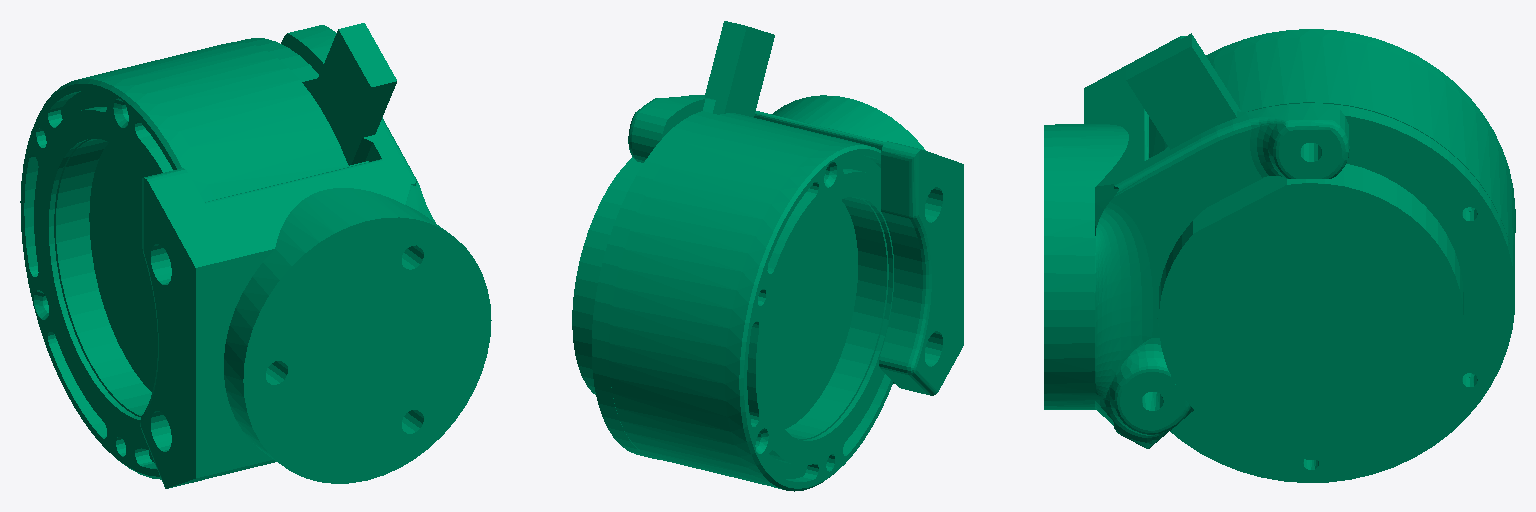
The robot description file, URDF, robot "pupper_v3":
<robot name="pupper_v3" version="1.0">

  <mujoco><compiler meshdir="../meshes/stl/" discardvisual="false" /></mujoco><joint name="leg_front_r_1" type="revolute">
    <limit lower="-1.22000" upper="2.51000" effort="3.00000" velocity="100.00000" />
    <origin rpy="1.57080 0.00000 0.00000" xyz="0.07500 -0.08350 0.00000" />
    <parent link="base_link" />
    <child link="leg_front_r_1" />
    <axis xyz="0.00000 0.00000 1.00000" />
  </joint>
  <joint name="leg_front_r_2" type="revolute">
    <limit lower="-0.42000" upper="3.14000" effort="3.00000" velocity="100.00000" />
    <origin rpy="1.49199 -1.57080 -1.49198" xyz="0.00000 0.00000 0.00000" />
    <parent link="leg_front_r_1" />
    <child link="leg_front_r_2" />
    <axis xyz="0.00000 0.00000 1.00000" />
  </joint>
  <joint name="leg_front_r_3" type="revolute">
    <limit lower="-2.79000" upper="0.71000" effort="3.00000" velocity="100.00000" />
    <origin rpy="-0.00000 1.57080 0.00000" xyz="0.00000 -0.04940 0.06850" />
    <parent link="leg_front_r_2" />
    <child link="leg_front_r_3" />
    <axis xyz="0.00000 0.00000 1.00000" />
  </joint>

  <joint name="leg_front_l_1" type="revolute">
    <limit lower="-2.51000" upper="1.22000" effort="3.00000" velocity="100.00000" />
    <origin rpy="-1.57080 0.00000 0.00000" xyz="0.07500 0.08350 0.00000" />
    <parent link="base_link" />
    <child link="leg_front_l_1" />
    <axis xyz="0.00000 0.00000 1.00000" />
  </joint>
  <joint name="leg_front_l_2" type="revolute">
    <limit lower="-3.14000" upper="0.42000" effort="3.00000" velocity="100.00000" />
    <origin rpy="1.57080 1.57080 -1.57080" xyz="0.00000 0.00000 0.00000" />
    <parent link="leg_front_l_1" />
    <child link="leg_front_l_2" />
    <axis xyz="0.00000 0.00000 1.00000" />
  </joint>
  <joint name="leg_front_l_3" type="revolute">
    <limit lower="-0.71000" upper="+2.79000" effort="3.00000" velocity="100.00000" />
    <origin rpy="-0.00000 1.57080 3.14159" xyz="0.00000 -0.04940 0.06850" />
    <parent link="leg_front_l_2" />
    <child link="leg_front_l_3" />
    <axis xyz="0.00000 0.00000 1.00000" />
  </joint>


  <joint name="leg_back_r_1" type="revolute">
    <limit lower="-1.22000" upper="2.51000" effort="3.00000" velocity="100.00000" />
    <origin rpy="1.57080 0.00000 0.00000" xyz="-0.07500 -0.07250 0.00000" />
    <parent link="base_link" />
    <child link="leg_back_r_1" />
    <axis xyz="0.00000 0.00000 1.00000" />
  </joint>
  <joint name="leg_back_r_2" type="revolute">
    <limit lower="-0.42000" upper="3.14000" effort="3.00000" velocity="100.00000" />
    <origin rpy="1.49199 -1.57080 -1.49198" xyz="0.00000 0.00000 0.00000" />
    <parent link="leg_back_r_1" />
    <child link="leg_back_r_2" />
    <axis xyz="0.00000 0.00000 1.00000" />
  </joint>
  <joint name="leg_back_r_3" type="revolute">
    <limit lower="-2.79000" upper="0.71000" effort="3.00000" velocity="100.00000" />
    <origin rpy="-0.00000 1.57080 0.00000" xyz="0.00000 -0.04940 0.06850" />
    <parent link="leg_back_r_2" />
    <child link="leg_back_r_3" />
    <axis xyz="0.00000 0.00000 1.00000" />
  </joint>

  <joint name="leg_back_l_1" type="revolute">
    <limit lower="-2.51000" upper="1.22000" effort="3.00000" velocity="100.00000" />
    <origin rpy="-1.57080 0.00000 0.00000" xyz="-0.07500 0.07250 0.00000" />
    <parent link="base_link" />
    <child link="leg_back_l_1" />
    <axis xyz="0.00000 0.00000 1.00000" />
  </joint>
  <joint name="leg_back_l_2" type="revolute">
    <limit lower="-3.14000" upper="0.42000" effort="3.00000" velocity="100.00000" />
    <origin rpy="1.57080 1.57080 -1.57080" xyz="0.00000 0.00000 0.00000" />
    <parent link="leg_back_l_1" />
    <child link="leg_back_l_2" />
    <axis xyz="0.00000 0.00000 1.00000" />
  </joint>
  <joint name="leg_back_l_3" type="revolute">
    <limit lower="-0.71000" upper="+2.79000" effort="3.00000" velocity="100.00000" />
    <origin rpy="-0.00000 1.57080 3.14159" xyz="0.00000 -0.04940 0.06850" />
    <parent link="leg_back_l_2" />
    <child link="leg_back_l_3" />
    <axis xyz="0.00000 0.00000 1.00000" />
  </joint>


  <link name="base_link">
    <collision name="body_collision">
      <origin rpy="-1.57080 -0.00000 1.57080" xyz="0.02146 -0.00000 0.03345" />
      <geometry>
        <box size="0.09014 0.12758 0.25943" />
      </geometry>
    </collision>
    <inertial>
      <inertia ixx="0.00240" ixy="0.000000" ixz="-0.0005" iyy="0.00850" iyz="0.00000" izz="0.00850" />
      <origin rpy="0.00000 0.00000 0.00000" xyz="0.02500 0.00000 0.01500" />
      <mass value="1.506" />
    </inertial>
    <visual name="body">
      <origin rpy="-1.57080 -0.00000 1.57080" xyz="0.00000 0.00000 0.00000" />
      <geometry>
        <mesh filename="package://pupper_v3_description/description/meshes/stl/BodyV4v70.001.stl" scale="1.00000 1.00000 1.00000" />
      </geometry>
    </visual>
  </link>
  <link name="leg_front_r_1">
    <inertial>
      <inertia ixx="0.000074" ixy="0.0" ixz="0.0" iyy="0.000058" iyz="0.0" izz="0.000048" />
      <origin rpy="0.00000 0.00000 0.00000" xyz="0.0 0.0 0.0" />
      <mass value="0.18000" />
    </inertial>
    <visual name="Leg Assembly For Flanged v26.001">
      <origin rpy="0.00000 0.00000 3.14159" xyz="0.00000 0.00000 -0.02800" />
      <geometry>
        <mesh filename="package://pupper_v3_description/description/meshes/stl/LegAssemblyForFlangedv26.001.stl" scale="1.00000 1.00000 1.00000" />
      </geometry>
    </visual>
  </link>
  <link name="leg_front_r_2">
    <collision name="Cylinder">
      <origin rpy="-0.00000 1.57080 0.00000" xyz="0.00000 -0.04940 0.06850" />
      <geometry>
        <cylinder radius="0.02500" length="0.03000" />
      </geometry>
    </collision>
    <inertial>
      <inertia ixx="0.000113" ixy="0.0" ixz="0.0" iyy="0.000067" iyz="0.000025" izz="0.000077" />
      <origin rpy="0.00000 0.00000 0.00000" xyz="0.0 -0.03340 0.05419" />
      <mass value="0.18600" />
    </inertial>
    <visual name="Leg Assembly For Flanged v26.002">
      <origin rpy="0.26213 -1.57080 2.87947" xyz="-0.02800 -0.00000 -0.00000" />
      <geometry>
        <mesh filename="package://pupper_v3_description/description/meshes/stl/LegAssemblyForFlangedv26.002.stl" scale="1.00000 1.00000 1.00000" />
      </geometry>
    </visual>
  </link>
  <link name="leg_front_r_3">
    <collision name="Leg Assembly For Flanged v26.007">
      <origin rpy="-0.00000 0.00000 3.14159" xyz="0.06231 -0.06216 0.01800" />
      <geometry>
        <sphere radius="0.01995" />
      </geometry>
    </collision>
    <inertial>
      <inertia ixx="0.0000405" ixy="0.000035" ixz="0.0" iyy="0.0000405" iyz="0.0" izz="0.000077" />
      <origin rpy="0.00000 0.00000 0.00000" xyz="0.03866 -0.03585 0.01833" />
      <mass value="0.05000" />
    </inertial>
    <visual name="Leg Assembly For Flanged v26.003">
      <origin rpy="-0.00000 0.00000 3.14159" xyz="0.06850 0.04940 -0.02800" />
      <geometry>
        <mesh filename="package://pupper_v3_description/description/meshes/stl/LegAssemblyForFlangedv26.003.stl" scale="1.00000 1.00000 1.00000" />
      </geometry>
    </visual>
  </link>
  <link name="leg_front_l_1">
    <inertial>
      <inertia ixx="0.000074" ixy="0.0" ixz="0.0" iyy="0.000058" iyz="0.0" izz="0.000048" />
      <origin rpy="0.00000 0.00000 0.00000" xyz="0.0 0.0 0.0" />
      <mass value="0.18000" />
    </inertial>
    <visual name="Leg Assembly For Flanged v26.009">
      <origin rpy="0.00000 0.00000 3.14159" xyz="0.00000 0.00000 -0.02800" />
      <geometry>
        <mesh filename="package://pupper_v3_description/description/meshes/stl/LegAssemblyForFlangedv26.010.stl" scale="1.00000 -1.00000 1.00000" />
      </geometry>
    </visual>
  </link>
  <link name="leg_front_l_2">
    <collision name="Cylinder.002">
      <origin rpy="-0.00000 1.57080 0.00000" xyz="0.00000 -0.04940 0.06850" />
      <geometry>
        <cylinder radius="0.02500" length="0.03000" />
      </geometry>
    </collision>
    <inertial>
      <inertia ixx="0.000113" ixy="0.0" ixz="0.0" iyy="0.000067" iyz="0.000025" izz="0.000077" />
      <origin rpy="0.00000 0.00000 0.00000" xyz="0 -0.03340 0.05419" />
      <mass value="0.18600" />
    </inertial>
    <visual name="Leg Assembly For Flanged v26.010">
      <origin rpy="0.26213 -1.57080 2.87947" xyz="+0.02800 -0.00000 -0.00000" />
      <geometry>
        <mesh filename="package://pupper_v3_description/description/meshes/stl/LegAssemblyForFlangedv26.011.stl" scale="1.00000 1.00000 -1.00000" />
      </geometry>
    </visual>
  </link>
  <link name="leg_front_l_3">
    <collision name="Leg Assembly For Flanged v26.015">
      <origin rpy="-0.00000 0.00000 3.14159" xyz="0.06231 0.06216 0.01800" />
      <geometry>
        <sphere radius="0.01995" />
      </geometry>
    </collision>
    <inertial>
      <inertia ixx="0.0000405" ixy="-0.000035" ixz="0.0" iyy="0.0000405" iyz="0.0" izz="0.000077" />
      <origin rpy="0.00000 0.00000 0.00000" xyz="0.03866 0.03585 0.01833" />
      <mass value="0.05000" />
    </inertial>
    <visual name="Leg Assembly For Flanged v26.011">
      <origin rpy="3.14159 0.00000 3.14159" xyz="0.06850 -0.04940 -0.02800" />
      <geometry>
        <mesh filename="package://pupper_v3_description/description/meshes/stl/LegAssemblyForFlangedv26.012.stl" scale="1.00000 1.00000 -1.00000" />
      </geometry>
    </visual>
  </link>
  <link name="leg_back_r_1">
    <inertial>
      <inertia ixx="0.000074" ixy="0.0" ixz="0.0" iyy="0.000058" iyz="0.0" izz="0.000048" />
      <origin rpy="0.00000 0.00000 0.00000" xyz="0.0 0.0 0.0" />
      <mass value="0.18000" />
    </inertial>
    <visual name="Leg Assembly For Flanged v26.004">
      <origin rpy="0.00000 0.00000 3.14159" xyz="0.00000 0.00000 -0.02800" />
      <geometry>
        <mesh filename="package://pupper_v3_description/description/meshes/stl/LegAssemblyForFlangedv26.005.stl" scale="1.00000 1.00000 1.00000" />
      </geometry>
    </visual>
  </link>
  <link name="leg_back_r_2">
    <collision name="Cylinder.001">
      <origin rpy="-0.00000 1.57080 0.00000" xyz="0.00000 -0.04940 0.06850" />
      <geometry>
        <cylinder radius="0.02500" length="0.03000" />
      </geometry>
    </collision>
    <inertial>
      <inertia ixx="0.000113" ixy="0.0" ixz="0.0" iyy="0.000067" iyz="0.000025" izz="0.000077" />
      <origin rpy="0.00000 0.00000 0.00000" xyz="0.0 -0.03340 0.05419" />
      <mass value="0.18600" />
    </inertial>
    <visual name="Leg Assembly For Flanged v26.005">
      <origin rpy="0.26213 -1.57080 2.87947" xyz="-0.02800 -0.00000 -0.00000" />
      <geometry>
        <mesh filename="package://pupper_v3_description/description/meshes/stl/LegAssemblyForFlangedv26.006.stl" scale="1.00000 1.00000 1.00000" />
      </geometry>
    </visual>
  </link>
  <link name="leg_back_r_3">
    <collision name="Leg Assembly For Flanged v26.008">
      <origin rpy="-0.00000 0.00000 3.14159" xyz="0.06231 -0.06216 0.01800" />
      <geometry>
        <sphere radius="0.01995" />
      </geometry>
    </collision>
    <inertial>
      <inertia ixx="0.0000405" ixy="0.000035" ixz="0.0" iyy="0.0000405" iyz="0.0" izz="0.000077" />
      <origin rpy="0.00000 0.00000 0.00000" xyz="0.03866 -0.03585 0.01833" />
      <mass value="0.05000" />
    </inertial>
    <visual name="Leg Assembly For Flanged v26.006">
      <origin rpy="-0.00000 0.00000 3.14159" xyz="0.06850 0.04940 -0.02800" />
      <geometry>
        <mesh filename="package://pupper_v3_description/description/meshes/stl/LegAssemblyForFlangedv26.007.stl" scale="1.00000 1.00000 1.00000" />
      </geometry>
    </visual>
  </link>
  <link name="leg_back_l_1">
    <inertial>
      <inertia ixx="0.000074" ixy="0.0" ixz="0.0" iyy="0.000058" iyz="0.0" izz="0.000048" />
      <origin rpy="0.00000 0.00000 0.00000" xyz="0.0 0.0 0.0" />
      <mass value="0.18000" />
    </inertial>
    <visual name="Leg Assembly For Flanged v26.012">
      <origin rpy="0.00000 0.00000 3.14159" xyz="0.00000 0.00000 -0.02800" />
      <geometry>
        <mesh filename="package://pupper_v3_description/description/meshes/stl/LegAssemblyForFlangedv26.013.stl" scale="1.00000 -1.00000 1.00000" />
      </geometry>
    </visual>
  </link>
  <link name="leg_back_l_2">
    <collision name="Cylinder.003">
      <origin rpy="-0.00000 1.57080 0.00000" xyz="0.00000 -0.04940 0.06850" />
      <geometry>
        <cylinder radius="0.02500" length="0.03000" />
      </geometry>
    </collision>
    <inertial>
      <inertia ixx="0.000113" ixy="0.0" ixz="0.0" iyy="0.000067" iyz="0.000025" izz="0.000077" />
      <origin rpy="0.00000 0.00000 0.00000" xyz="0.0 -0.03340 0.05419" />
      <mass value="0.18600" />
    </inertial>
    <visual name="Leg Assembly For Flanged v26.013">
      <origin rpy="0.26213 -1.57080 2.87947" xyz=" +0.02800 -0.00000 -0.00000" />
      <geometry>
        <mesh filename="package://pupper_v3_description/description/meshes/stl/LegAssemblyForFlangedv26.014.stl" scale="1.00000 1.00000 -1.00000" />
      </geometry>
    </visual>
  </link>
  <link name="leg_back_l_3">
    <collision name="Leg Assembly For Flanged v26.016">
      <origin rpy="-0.00000 0.00000 3.14159" xyz="0.06231 0.06216 0.01800" />
      <geometry>
        <sphere radius="0.01995" />
      </geometry>
    </collision>
    <inertial>
      <inertia ixx="0.0000405" ixy="-0.000035" ixz=" 0.0" iyy=" 0.0000405" iyz=" 0.0" izz="0.000077" />
      <origin rpy="0.00000 0.00000 0.00000" xyz="0.03866 0.03585 0.01833" />
      <mass value="0.05000" />
    </inertial>
    <visual name="Leg Assembly For Flanged v26.014">
      <origin rpy="3.14159 0.00000 3.14159" xyz="0.06850 -0.04940 -0.02800" />
      <geometry>
        <mesh filename="package://pupper_v3_description/description/meshes/stl/LegAssemblyForFlangedv26.015.stl" scale="1.00000 1.00000 -1.00000" />
      </geometry>
    </visual>
  </link>
<joint name="world_to_body" type="floating"><parent link="world" /><child link="base_link" /></joint><link name="world" /></robot>

--- What the picture shows (computed from the rendered views, not written in the file) ---
The picture shows the robot from 3 angles, left to right: view 1: azimuth 30°, elevation 25°; view 2: azimuth 150°, elevation 25°; view 3: azimuth 270°, elevation 25°; orthographic projection.
Robot: pupper_v3 — 14 links, 13 joints (12 revolute, 1 floating); root link world; default pose: every joint at zero.
Visible links, largest first — view 1: leg_back_l_1; view 2: leg_back_l_1; view 3: leg_back_l_1.
Boxes of the visible links, box(x1,y1,x2,y2) form: leg_back_l_1: box(20, 23, 491, 488); leg_back_l_1: box(572, 21, 963, 491); leg_back_l_1: box(1044, 29, 1515, 482).
Size in the robot's own frame: 0.0412 by 0.0611 by 0.0632 metres.
1 mesh visuals loaded from 13 distinct referenced files (1 binary STL); not drawn: 12 (reference not matched to a file when rendering).